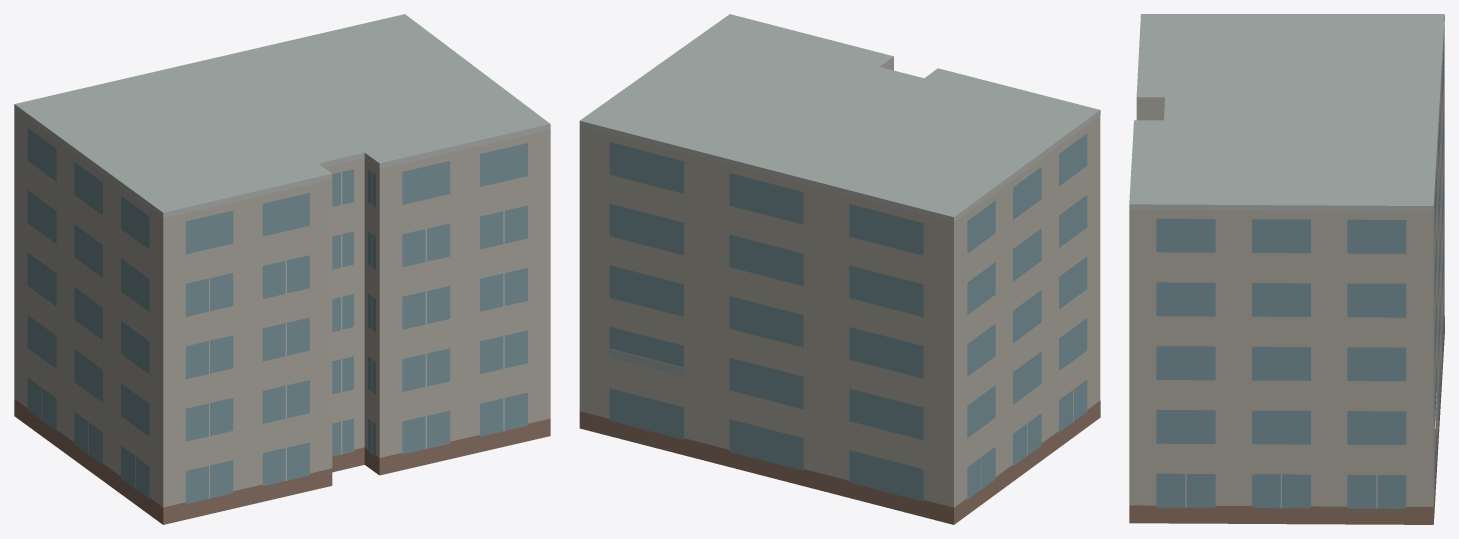
Rendered from survey-upis-32664946.glb.
3 views of the same model, side by side, from view 1: azimuth 30°, elevation 25°; view 2: azimuth 150°, elevation 25°; view 3: azimuth 270°, elevation 25° (orthographic). The views are drawn at different scales.
Visible parts, largest first — view 1: survey-upis-32664946.tmp; view 2: survey-upis-32664946.tmp; view 3: survey-upis-32664946.tmp.
Part boxes in pixels (x1,y1,x2,y2): survey-upis-32664946.tmp: (14,14,550,524); survey-upis-32664946.tmp: (579,14,1100,524); survey-upis-32664946.tmp: (1129,14,1444,524).
Size of the model in its own units: 17.52 by 13.55 by 12.16.
